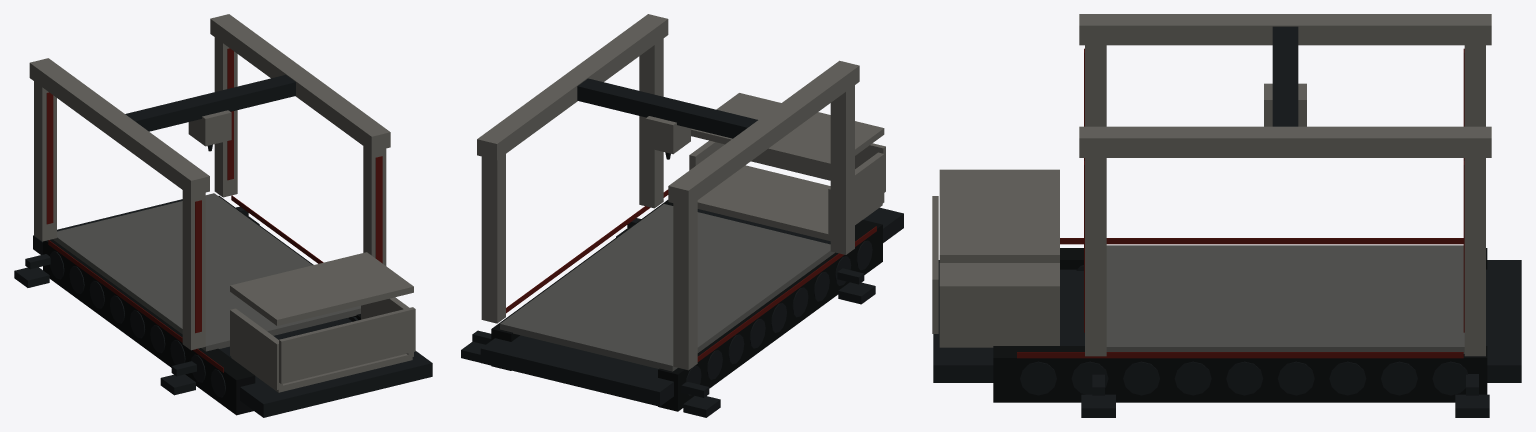
3 renders of one model, left to right at view 1: azimuth 30°, elevation 25°; view 2: azimuth 150°, elevation 25°; view 3: azimuth 270°, elevation 25°, orthographic. The views are drawn at different scales.
Visible parts, largest first — view 1: mobile-fabricator-painted, printer-gantry-painted, printer-head-painted, stabilizer--1--5.7-painted, stabilizer--1-3-painted; view 2: mobile-fabricator-painted, printer-gantry-painted, printer-head-painted, stabilizer--1--5.7-painted, stabilizer--1-3-painted, stabilizer-1--5.7-painted; view 3: mobile-fabricator-painted, printer-gantry-painted, stabilizer-1--5.7-painted, stabilizer-1-3-painted, printer-head-painted.
Boxes of the visible parts, <box> form: mobile-fabricator-painted: <box>29,14,432,417</box>; printer-gantry-painted: <box>125,75,295,131</box>; printer-head-painted: <box>188,110,231,151</box>; stabilizer--1--5.7-painted: <box>14,254,50,287</box>; stabilizer--1-3-painted: <box>160,361,196,395</box>; mobile-fabricator-painted: <box>477,14,903,411</box>; printer-gantry-painted: <box>577,78,757,138</box>; printer-head-painted: <box>645,116,690,159</box>; stabilizer--1--5.7-painted: <box>681,382,720,417</box>; stabilizer--1-3-painted: <box>837,268,875,304</box>; stabilizer-1--5.7-painted: <box>461,330,491,362</box>; mobile-fabricator-painted: <box>932,14,1521,402</box>; printer-gantry-painted: <box>1272,26,1298,126</box>; stabilizer-1--5.7-painted: <box>1455,374,1489,417</box>; stabilizer-1-3-painted: <box>1081,374,1115,417</box>; printer-head-painted: <box>1264,83,1306,126</box>.
Bounding box in the file's own units: 42.68 × 37.45 × 73.68.
